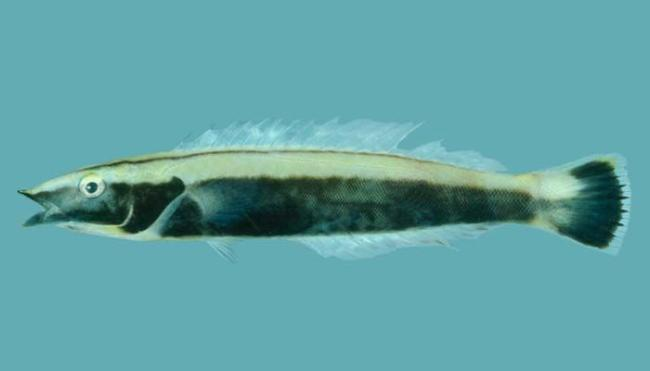fish: (15, 117, 633, 263)
